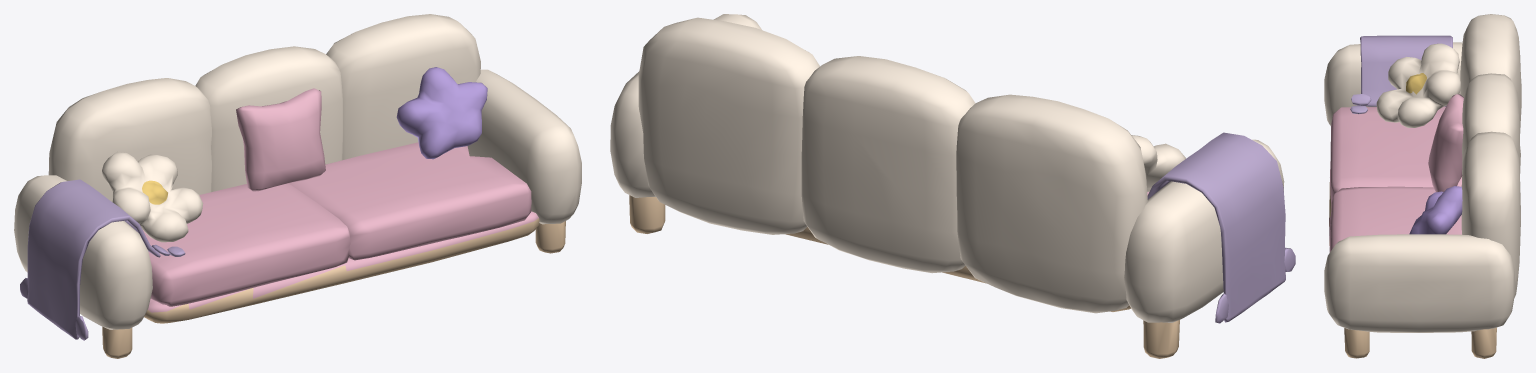
File: petal-sofa.glb
3 renders of one model, left to right at view 1: azimuth 30°, elevation 25°; view 2: azimuth 150°, elevation 25°; view 3: azimuth 270°, elevation 25°, orthographic. The views are drawn at different scales.
Parts seen in each view (by area): view 1: petal-sofa-wide; view 2: petal-sofa-wide; view 3: petal-sofa-wide.
Boxes of the visible parts, x1,y1,x2,y2 form: petal-sofa-wide: (14, 14, 581, 358); petal-sofa-wide: (610, 14, 1295, 358); petal-sofa-wide: (1324, 14, 1521, 358).
Bounding box in the file's own units: 3.7 × 1.38 × 1.41.
